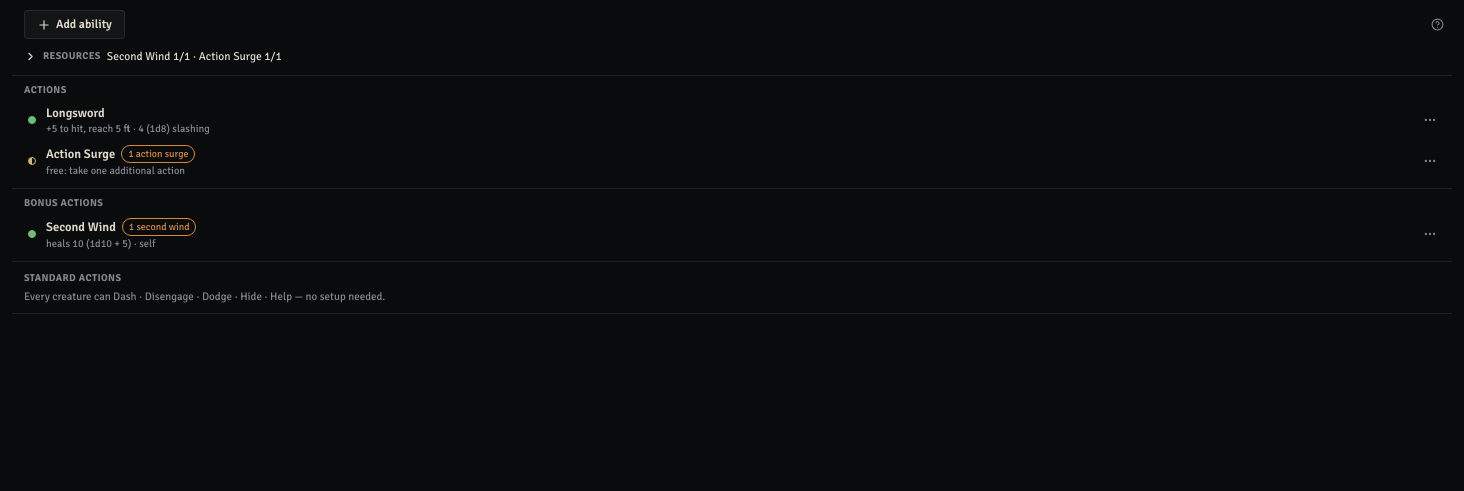
it: the ability editor's shell › points a warning at the section that fixes it
Click the button with aria-label "Edit Longsword" at {"x": 75, "y": 113}, box [42, 100, 1410, 140]
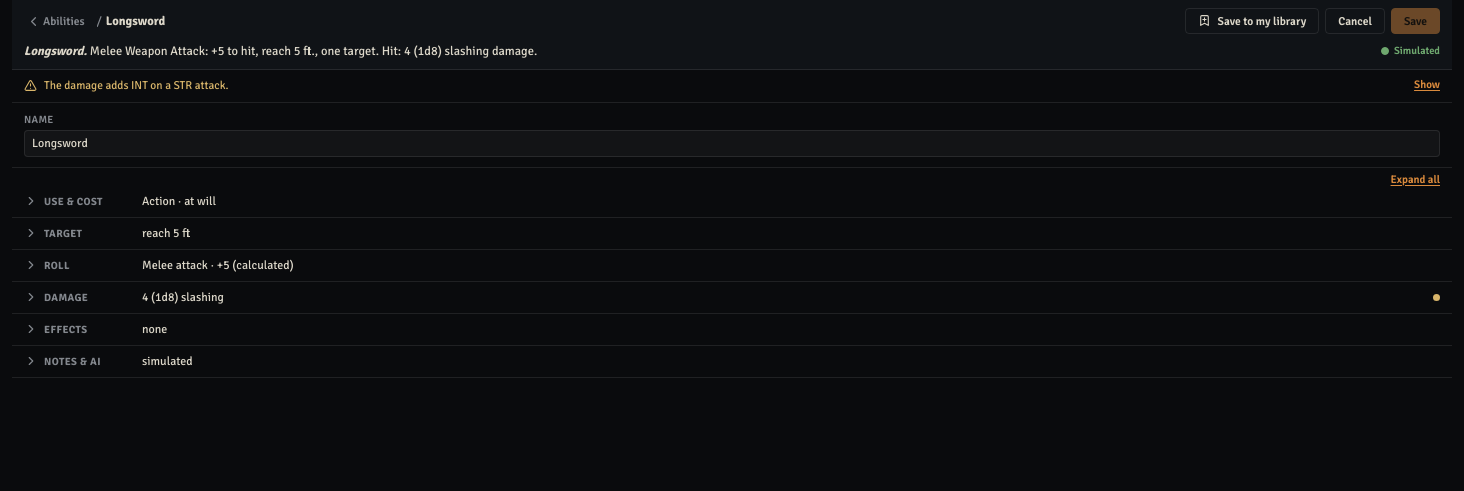
Expected: the list named "Warnings" shows "The damage adds INT on a STR attack.", [44, 78, 228, 92]
Click the button "Show" at {"x": 1427, "y": 86}, box [1414, 78, 1440, 93]
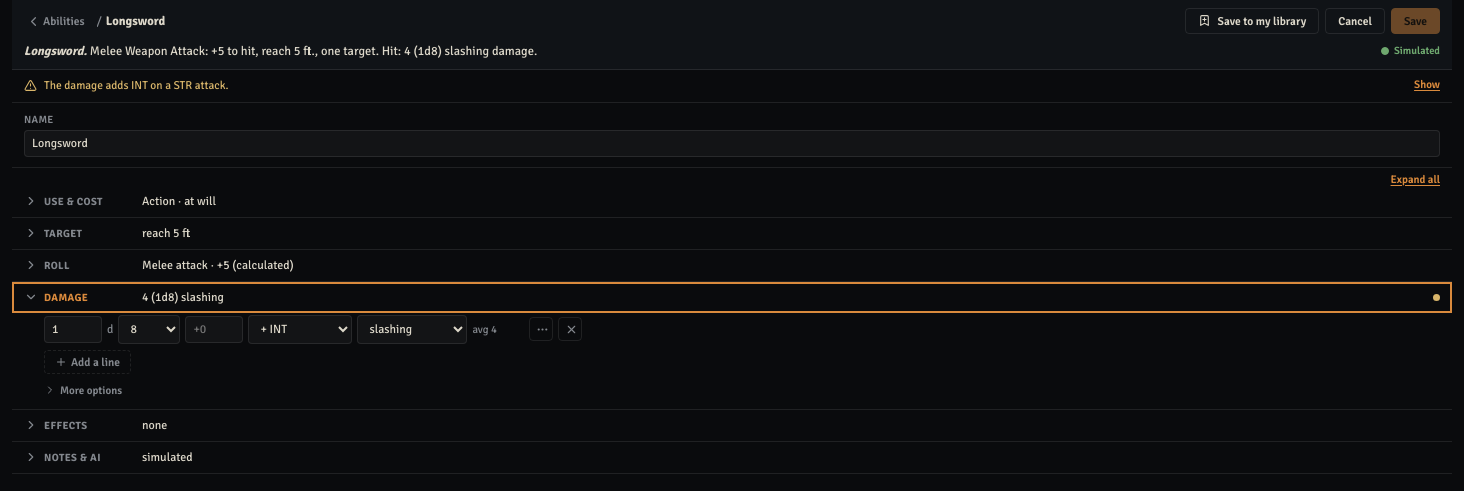
Expected: the button "Damage 4 (1d8) slashing" is expanded, [12, 282, 1452, 313]
